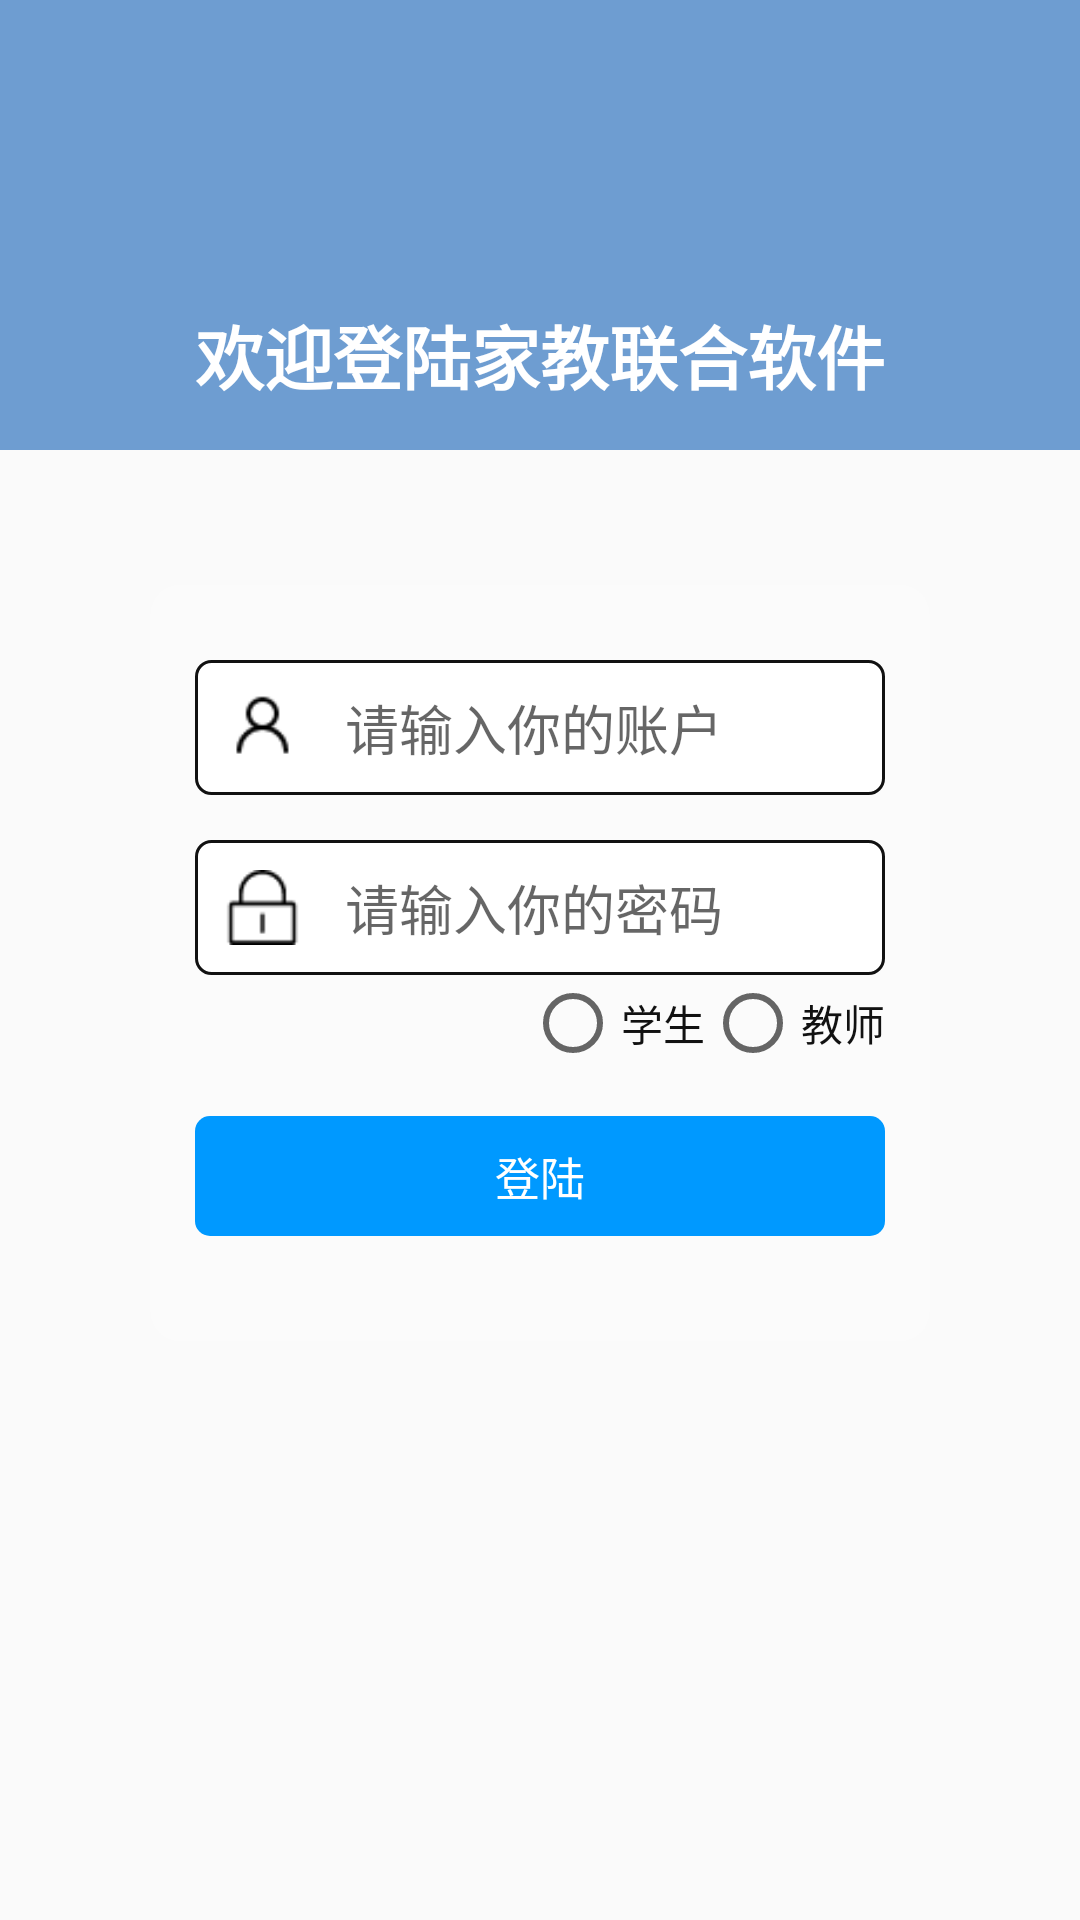

Named icons in this screenshot (1080 x 1920) and their centers, (x,y):
account: (262,725)
